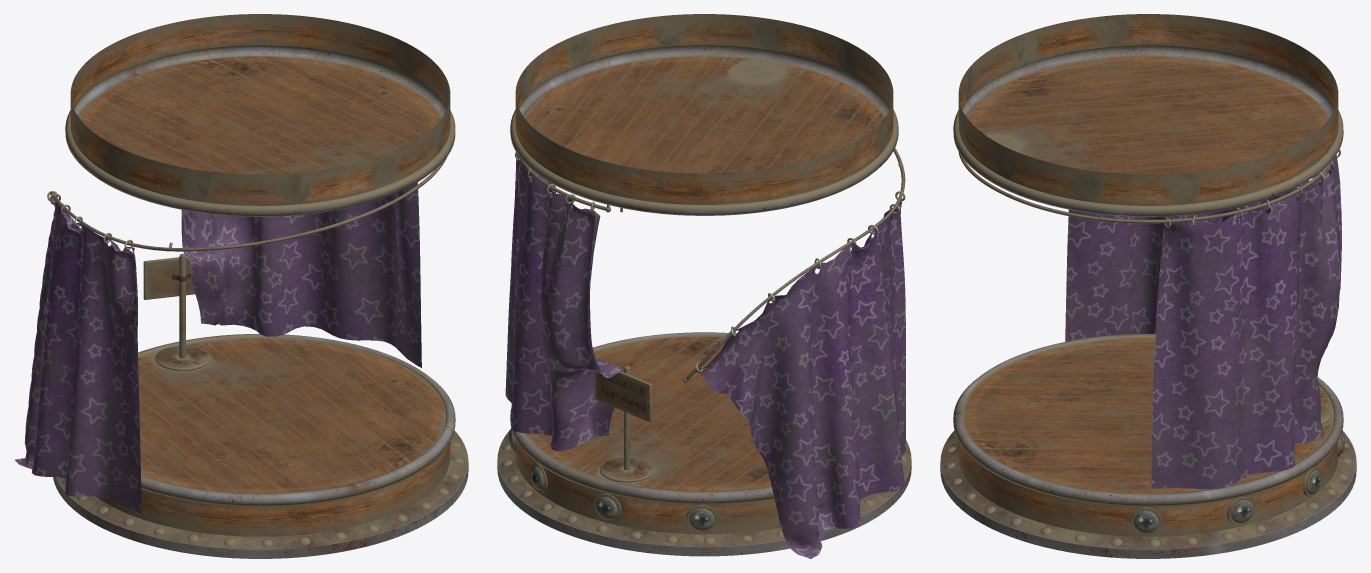
The model's file is pirate_cove.glb.
3 views of the same model, side by side, from view 1: azimuth 30°, elevation 25°; view 2: azimuth 150°, elevation 25°; view 3: azimuth 270°, elevation 25° (orthographic).
Size of the model in its own units: 2.3 by 2.2 by 2.2.
Materials: 2 (2 with a texture image).
